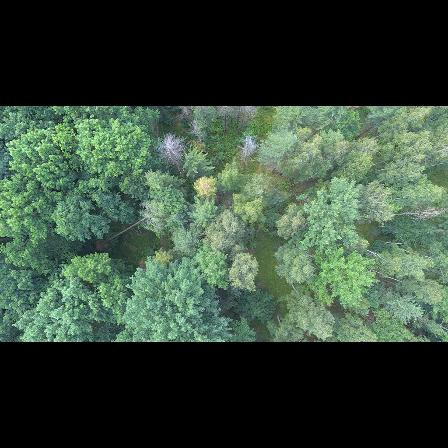Dead: (157, 129, 189, 182), (390, 204, 448, 224), (220, 106, 260, 135), (234, 135, 262, 169)
